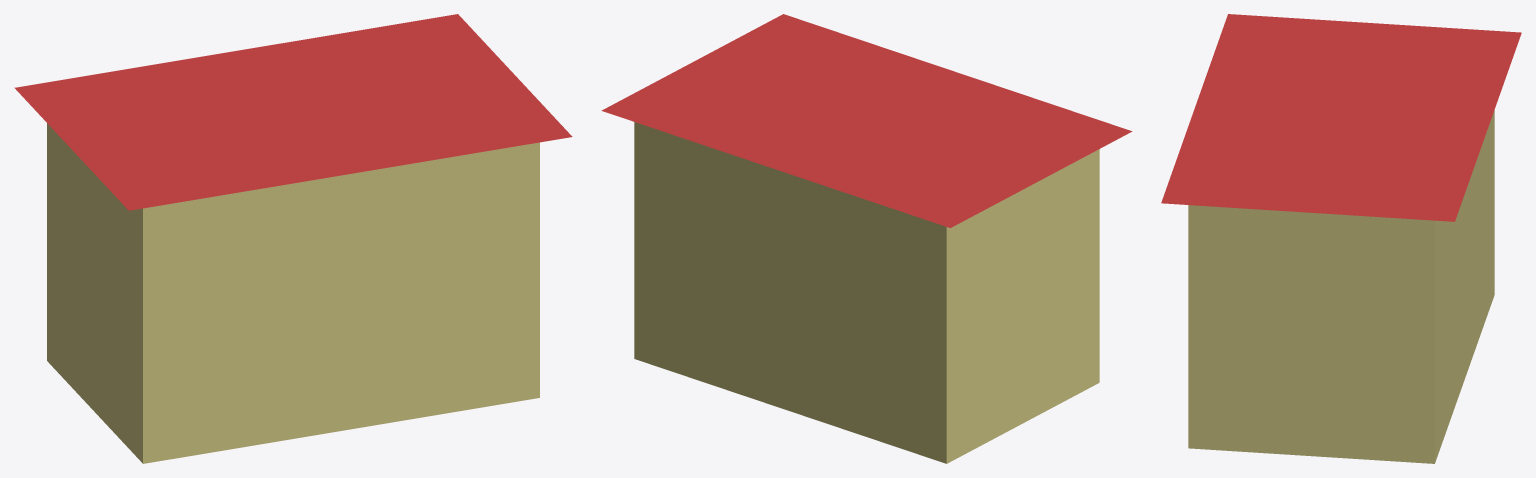
The picture shows the model from 3 angles, left to right: view 1: azimuth 30°, elevation 25°; view 2: azimuth 150°, elevation 25°; view 3: azimuth 270°, elevation 25°; orthographic projection. The views are drawn at different scales.
Size of the model in its own units: 10.31 by 7.56 by 5.86.
